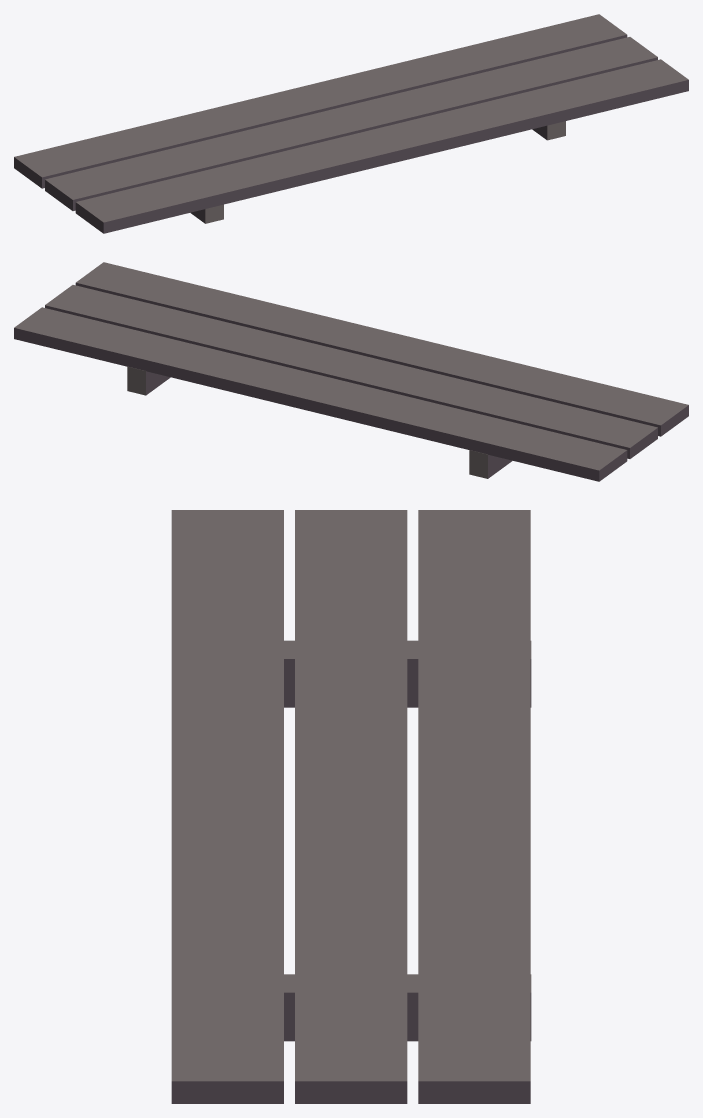
The model's file is Wood Plank Shelf.fbx.
The picture shows the model from 3 angles, top to bottom: view 1: azimuth 30°, elevation 25°; view 2: azimuth 150°, elevation 25°; view 3: azimuth 270°, elevation 25°; orthographic projection. The views are drawn at different scales.
Parts seen in each view (by area): view 1: Wood Plank Shelf; view 2: Wood Plank Shelf; view 3: Wood Plank Shelf.
Part boxes in pixels (left/top/right/bottom): Wood Plank Shelf: left=14, top=14, right=688, bottom=233; Wood Plank Shelf: left=14, top=262, right=688, bottom=481; Wood Plank Shelf: left=171, top=510, right=531, bottom=1103.
Bounding box in the file's own units: 269 × 15.56 × 71.5.
